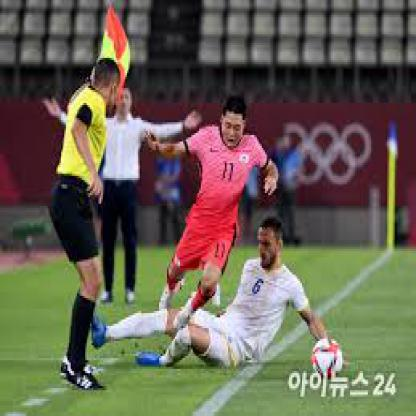Fall_Down: (91, 217, 351, 373)
